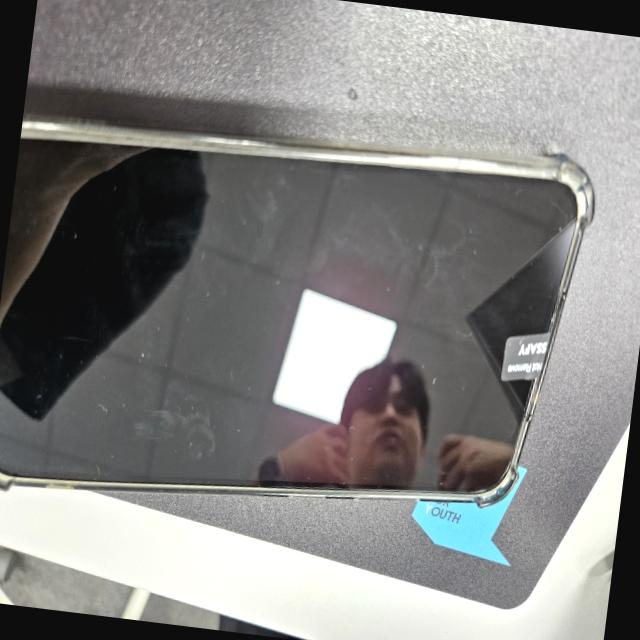phone: (0, 105, 582, 546)
sticker: (498, 325, 555, 394)
